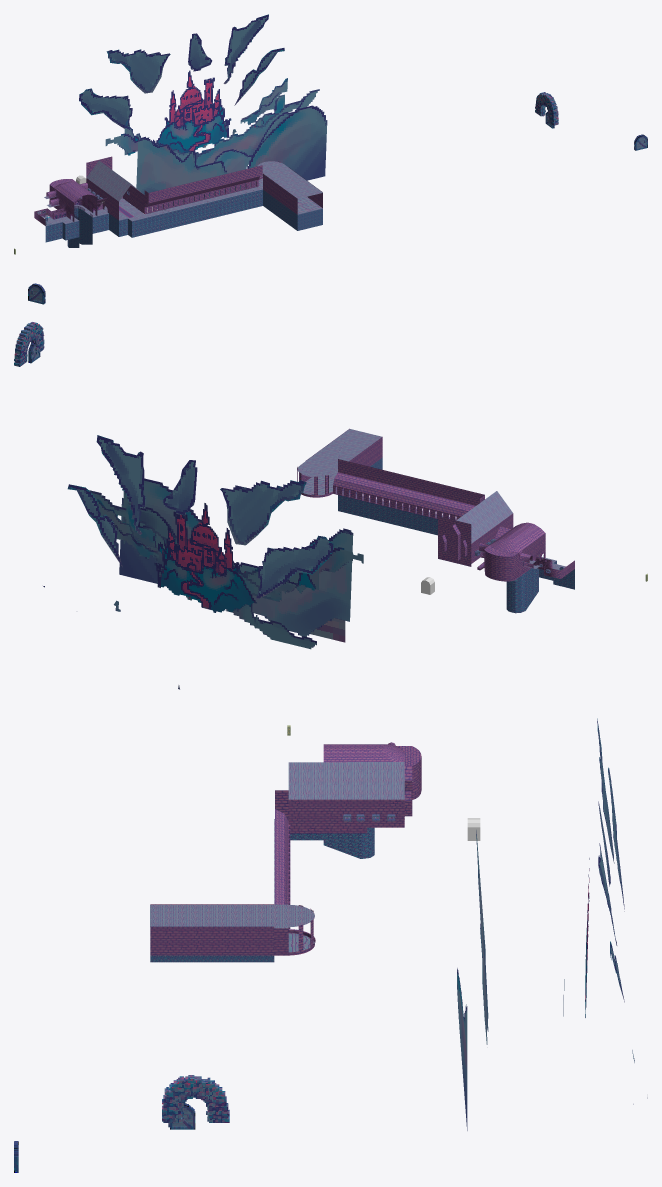
Rendered from official_catacombs_map.glb.
The picture shows the model from 3 angles, top to bottom: view 1: azimuth 30°, elevation 25°; view 2: azimuth 150°, elevation 25°; view 3: azimuth 270°, elevation 25°; orthographic projection. The views are drawn at different scales.
Visible parts, largest first — view 1: Untitled_Artwork (1).029, Untitled_Artwork (1).002, floor_drop, Untitled_Artwork (1).001, Untitled_Artwork (1).005, church_floor001.001, Untitled_Artwork (1).006, church_floor001.003, floor.002, church_floor001.007, church_roof, Untitled_Artwork (1).003 (+8 smaller); view 2: Untitled_Artwork (1).029, Untitled_Artwork (1).001, church_floor001.001, Untitled_Artwork (1).005, Untitled_Artwork (1).002, floor_drop, Untitled_Artwork (1).003, church_floor001.003, Untitled_Artwork (1).006, church_roof, floor.002, floor.001 (+8 smaller); view 3: church_roof, church_floor001.002, church_wall_side, church_floor001.003, stone frame.002, church_floor001.001, Untitled_Artwork (1).029, cell_block_roof, floor_drop.001, church_floor001.007, Untitled_Artwork (1).002, Untitled_Artwork (1).005 (+1 smaller).
Boxes of the visible parts, x1=… form: Untitled_Artwork (1).029: x1=79, y1=14, x2=284, y2=136; Untitled_Artwork (1).002: x1=199, y1=105, x2=327, y2=199; floor_drop: x1=45, y1=189, x2=262, y2=242; Untitled_Artwork (1).001: x1=156, y1=70, x2=231, y2=152; Untitled_Artwork (1).005: x1=136, y1=136, x2=229, y2=208; church_floor001.001: x1=144, y1=165, x2=262, y2=214; Untitled_Artwork (1).006: x1=105, y1=89, x2=319, y2=166; church_floor001.003: x1=257, y1=161, x2=322, y2=198; floor.002: x1=34, y1=183, x2=107, y2=225; church_floor001.007: x1=263, y1=190, x2=322, y2=230; church_roof: x1=86, y1=160, x2=142, y2=201; Untitled_Artwork (1).003: x1=214, y1=97, x2=305, y2=173; Untitled_Artwork (1).029: x1=43, y1=435, x2=333, y2=689; Untitled_Artwork (1).001: x1=154, y1=503, x2=257, y2=612; church_floor001.001: x1=333, y1=459, x2=484, y2=520; Untitled_Artwork (1).005: x1=239, y1=528, x2=353, y2=636; Untitled_Artwork (1).002: x1=119, y1=478, x2=199, y2=583; floor_drop: x1=338, y1=495, x2=574, y2=589; Untitled_Artwork (1).003: x1=123, y1=491, x2=316, y2=649; church_floor001.003: x1=297, y1=429, x2=381, y2=477; Untitled_Artwork (1).006: x1=89, y1=490, x2=363, y2=611; church_roof: x1=456, y1=491, x2=512, y2=543; floor.002: x1=477, y1=526, x2=574, y2=578; floor.001: x1=484, y1=545, x2=526, y2=581; church_roof: x1=288, y1=762, x2=404, y2=799; church_floor001.002: x1=150, y1=904, x2=288, y2=955; church_wall_side: x1=288, y1=799, x2=404, y2=833; church_floor001.003: x1=150, y1=904, x2=314, y2=927; stone frame.002: x1=162, y1=1075, x2=229, y2=1122; church_floor001.001: x1=275, y1=790, x2=290, y2=928; Untitled_Artwork (1).029: x1=597, y1=718, x2=647, y2=1104; cell_block_roof: x1=323, y1=744, x2=405, y2=762; floor_drop.001: x1=323, y1=827, x2=374, y2=858; church_floor001.007: x1=150, y1=955, x2=274, y2=962; Untitled_Artwork (1).002: x1=457, y1=968, x2=467, y2=1130; Untitled_Artwork (1).005: x1=476, y1=830, x2=488, y2=1044.
Bounding box in the file's own units: 273 × 80.46 × 150.
34 materials, 25 textured.
